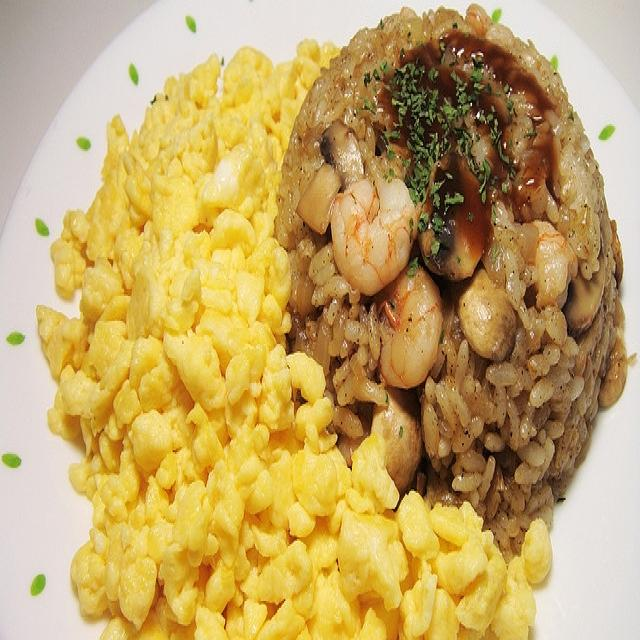鸡蛋料理: (24, 28, 602, 617)
